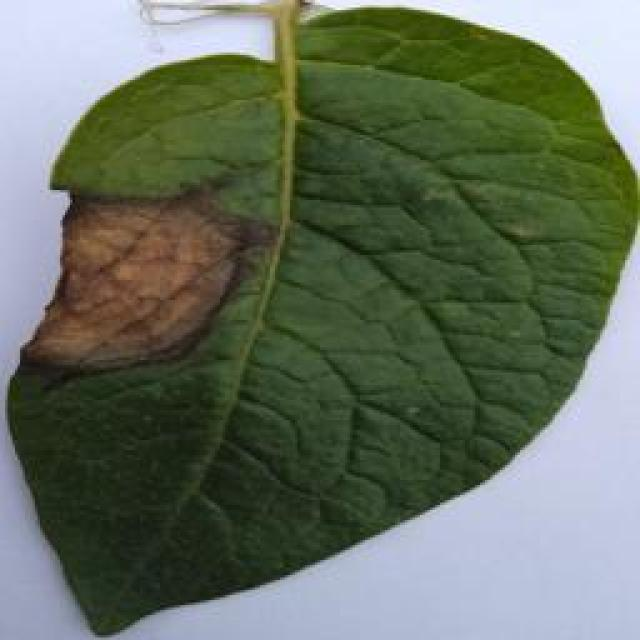Potato_Late_Blight: (13, 9, 627, 638)
